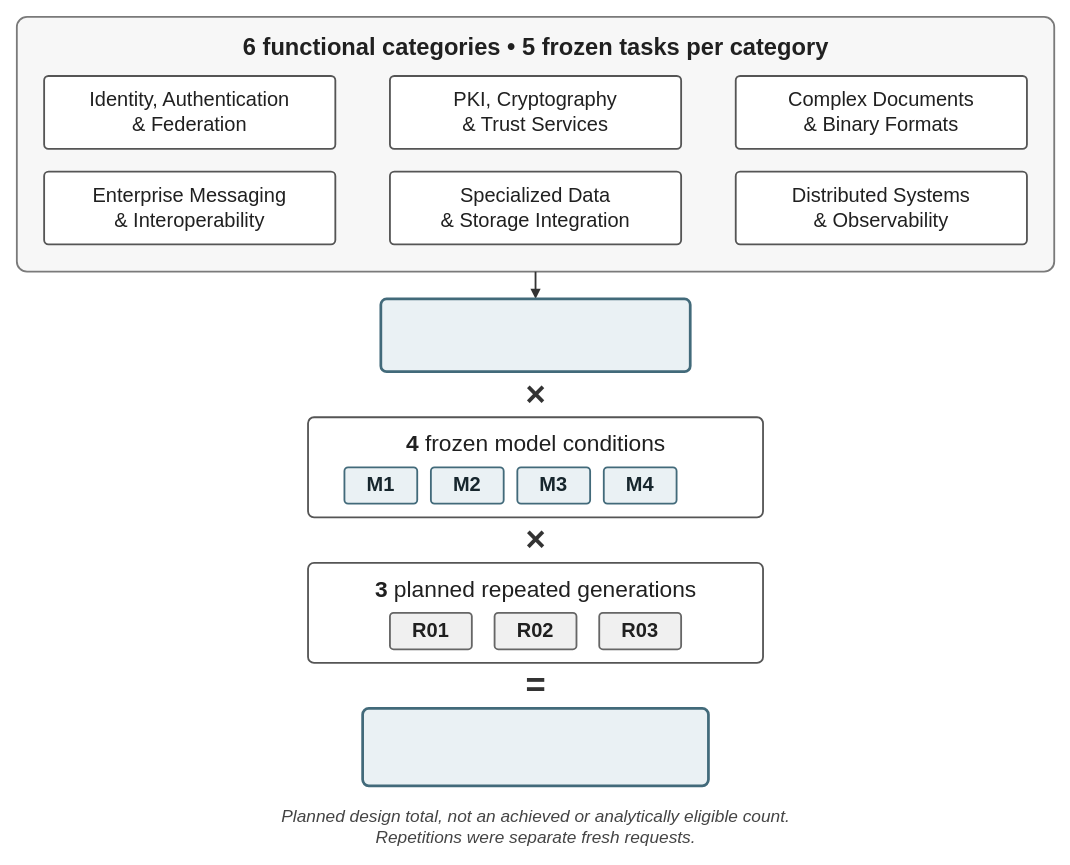
Some shapes in this 1070 by 865 pixel diagram are drawn without their labels. The shapes that lost their labels are listed below. From the top down, each one's centre as x and y in pixels, then its label:
At point (535, 335): "30 frozen tasks".
At point (535, 747): "360 planned observations".
